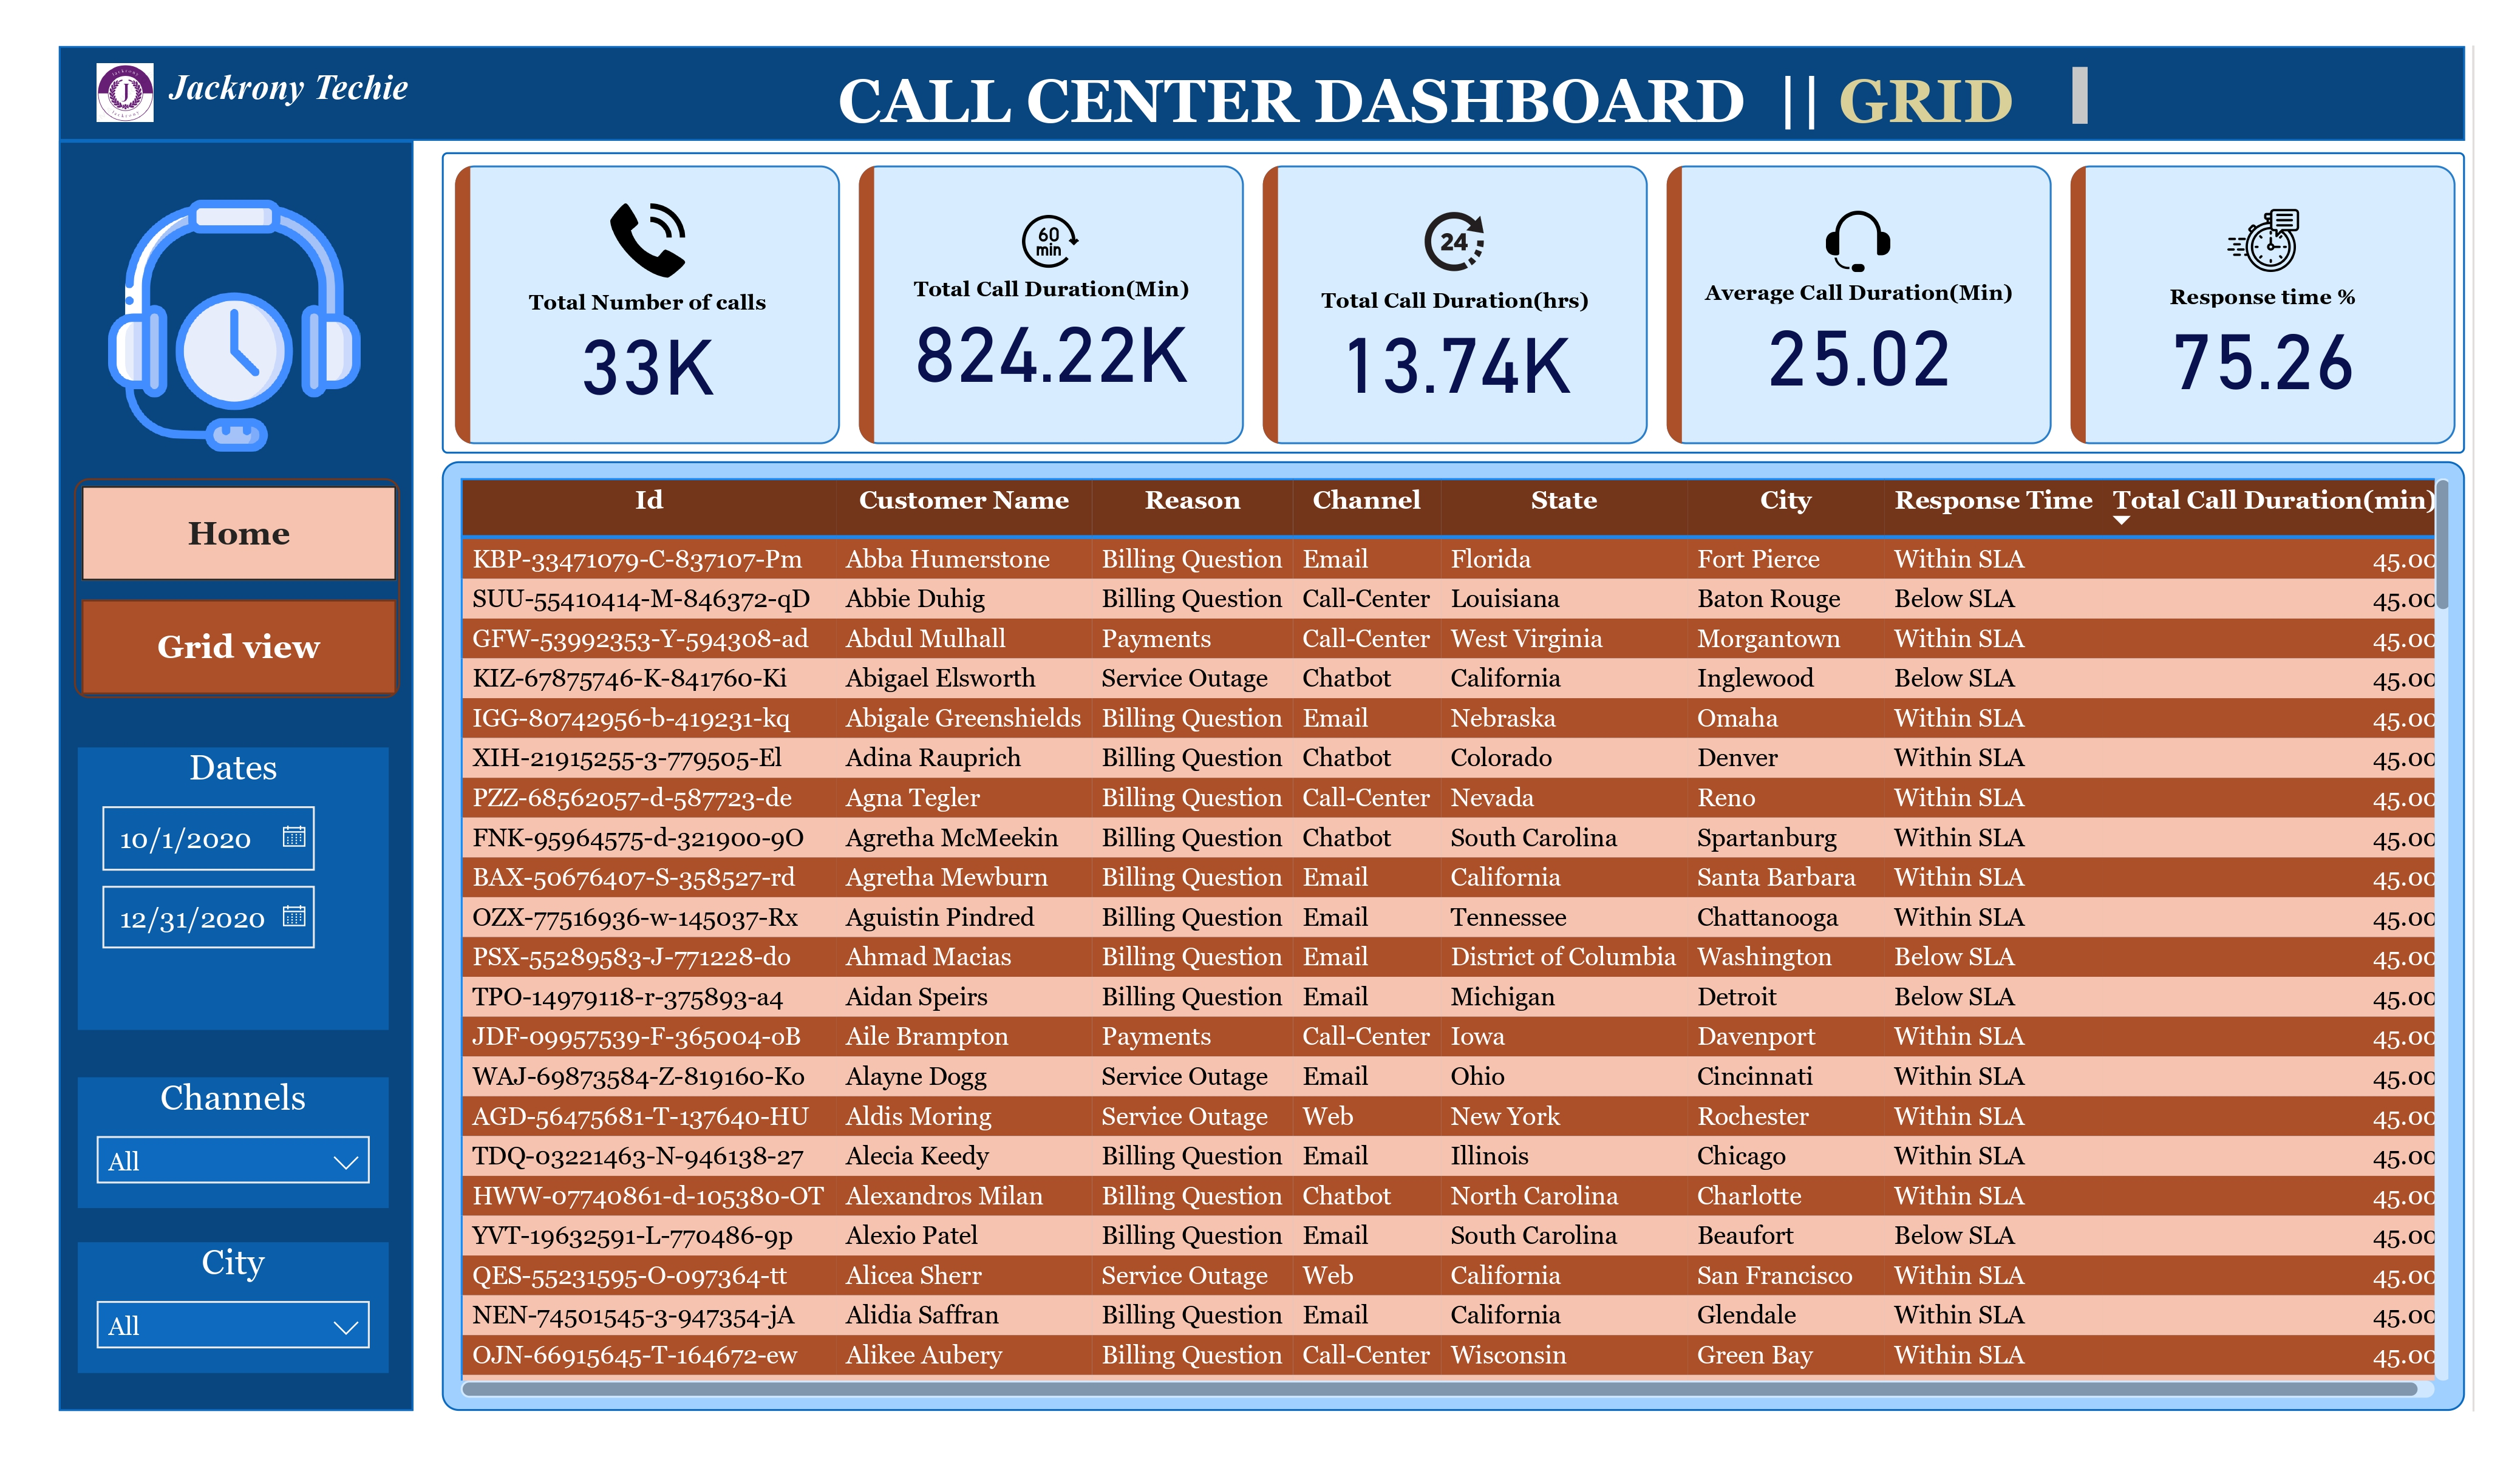

Layout of this report page (visuals, bound fields, positions):
{"tool":"powerbi","page":{"name":"Grid view","canvas":[1280,720],"ordinal":1},"visuals":[{"type":"shape","box":[7.4,50,187,670.4],"z":0},{"type":"shape","box":[7.4,0,1268.5,50],"z":1000},{"type":"cardVisual","fields":{"Data":["Center_Call Data.Total Number of calls","Center_Call Data.Total Call Duration in minutes","Center_Call Data.Total Call Duration in hrs","Center_Call Data.Average CAll Duration (Min)","Center_Call Data.Response time %"]},"box":[209.3,55.6,1066.7,159.3],"z":2000},{"type":"textbox","box":[413.1,5.8,669.1,43.6],"z":3000},{"type":"image","box":[7.3,4.4,68.4,40.7],"z":4000},{"type":"image","box":[16.7,75.9,164.8,142.6],"z":5000},{"type":"textbox","box":[59.6,5.8,189.1,39.3],"z":6000},{"type":"slicer","title":"Channels ","fields":{"Values":["Center_Call Data.Channel"]},"box":[16.7,544.4,164.8,68.5],"z":7000},{"type":"slicer","title":"City","fields":{"Values":["Center_Call Data.City"]},"box":[16.7,631.5,164.8,68.5],"z":8000},{"type":"slicer","title":"Dates","fields":{"Values":["Dates.Date"]},"box":[16.7,370.4,164.8,148.1],"z":9000},{"type":"tableEx","fields":{"Values":["Center_Call Data.Id","Center_Call Data.Customer Name","Center_Call Data.Reason","Center_Call Data.Channel","Center_Call Data.State","Center_Call Data.City","Center_Call Data.Response Time","Center_Call Data.Total Call Duration in minutes"]},"box":[209.3,218.5,1066.7,501.9],"z":10000},{"type":"pageNavigator","box":[14.8,227.8,172.2,116.7],"z":11000}]}

Visuals, with their boxes on the page's 1280x720 design canvas (x1, y1, x2, y2). These are canvas units, not pixel positions in the 2520x1457 screenshot, which may show the page scaled, cropped or inside an application window:
shape: (7,50,194,720)
shape: (7,0,1276,50)
cardVisual - Center_Call Data.Total Number of calls x Center_Call Data.Total Call Duration in minutes: (209,56,1276,215)
textbox: (413,6,1082,49)
image: (7,4,76,45)
image: (17,76,182,218)
textbox: (60,6,249,45)
"Channels " slicer: (17,544,182,613)
"City" slicer: (17,632,182,700)
"Dates" slicer: (17,370,182,518)
tableEx - Center_Call Data.Id x Center_Call Data.Customer Name: (209,218,1276,720)
pageNavigator: (15,228,187,344)
